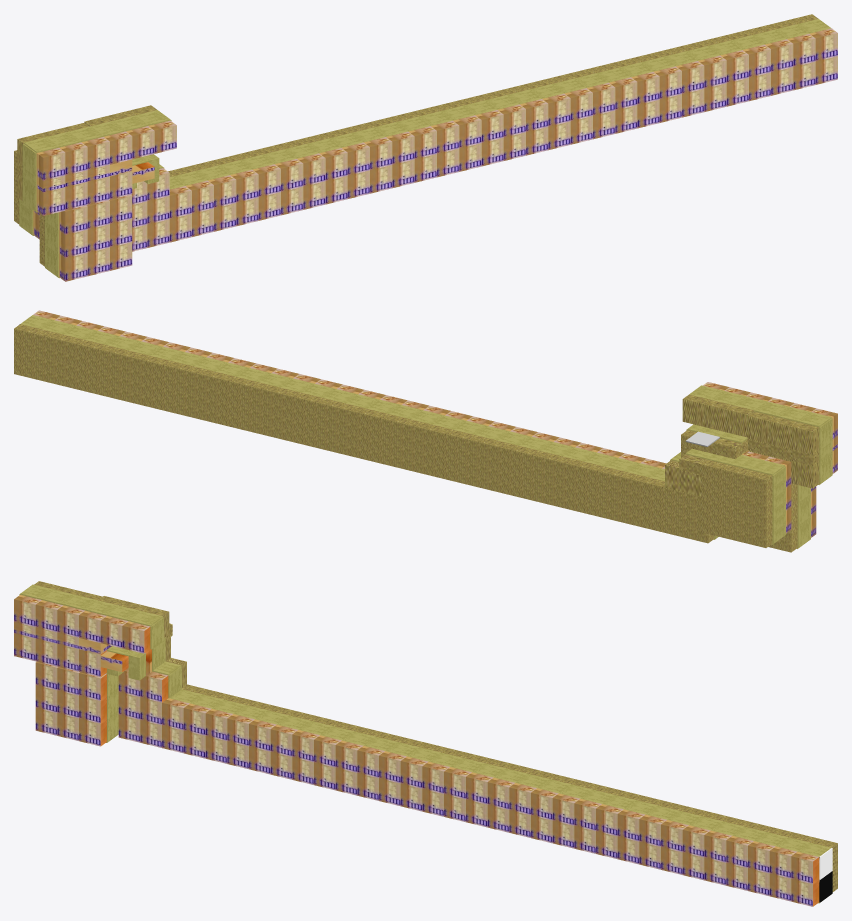
Rendered from badhouse.glb.
The picture shows the model from 3 angles, top to bottom: view 1: azimuth 30°, elevation 25°; view 2: azimuth 150°, elevation 25°; view 3: azimuth 330°, elevation 25°; orthographic projection. The views are drawn at different scales.
Parts seen in each view (by area): view 1: Cube.238, Cube.249, Cube.253, Cube.344, Cube.271, Cube.354, Cube.425, Cube.427, Cube.236, Cube.270, Cube.272, Cube.348 (+71 smaller); view 2: Cube.003, Cube.025, Cube.026, Cube.035, Cube.024, Cube.034, Cube.029, Cube.023, Cube.013; view 3: Cube.421, Cube.235, Cube.174, Cube.254, Cube.350, Cube.420, Cube.344, Cube.425, Cube.505, Cube.172, Cube.428, Cube.432 (+29 smaller).
Boxes of the visible parts, bbox=[...] form: Cube.238: bbox=[36, 148, 65, 180]; Cube.249: bbox=[36, 187, 65, 215]; Cube.253: bbox=[59, 205, 87, 234]; Cube.344: bbox=[408, 126, 436, 159]; Cube.271: bbox=[230, 169, 258, 202]; Cube.354: bbox=[453, 115, 481, 148]; Cube.425: bbox=[698, 55, 726, 88]; Cube.427: bbox=[653, 66, 681, 99]; Cube.236: bbox=[126, 126, 154, 159]; Cube.270: bbox=[59, 253, 87, 281]; Cube.272: bbox=[252, 164, 280, 197]; Cube.348: bbox=[297, 153, 325, 186]; Cube.003: bbox=[665, 460, 700, 496]; Cube.025: bbox=[791, 422, 819, 454]; Cube.026: bbox=[791, 461, 819, 488]; Cube.035: bbox=[682, 394, 710, 426]; Cube.024: bbox=[769, 417, 796, 448]; Cube.034: bbox=[704, 400, 731, 432]; Cube.029: bbox=[726, 405, 753, 437]; Cube.023: bbox=[748, 411, 775, 443]; Cube.013: bbox=[713, 438, 747, 458]; Cube.421: bbox=[791, 851, 819, 883]; Cube.235: bbox=[122, 621, 150, 653]; Cube.174: bbox=[140, 671, 168, 702]; Cube.254: bbox=[79, 672, 106, 700]; Cube.350: bbox=[335, 740, 363, 772]; Cube.420: bbox=[791, 879, 819, 906]; Cube.344: bbox=[400, 756, 428, 788]; Cube.425: bbox=[682, 825, 710, 857]; Cube.505: bbox=[552, 793, 579, 825]; Cube.172: bbox=[183, 703, 211, 735]; Cube.428: bbox=[704, 830, 731, 862]; Cube.432: bbox=[769, 846, 796, 878].
Size of the model in its own units: 727 by 113 by 80.
5 materials, 5 textured.
